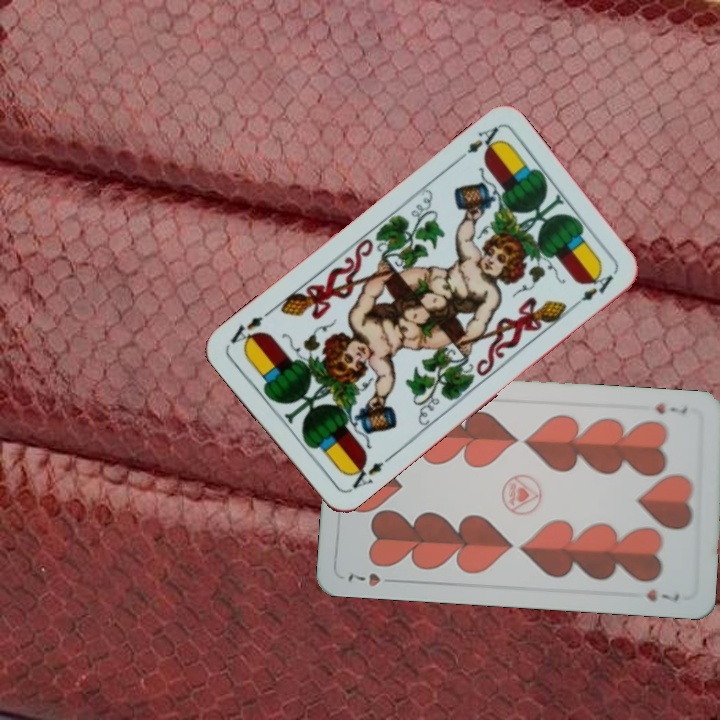EA: (452, 122, 505, 166), (343, 452, 393, 495)
H7: (343, 569, 400, 589), (651, 398, 690, 417)
